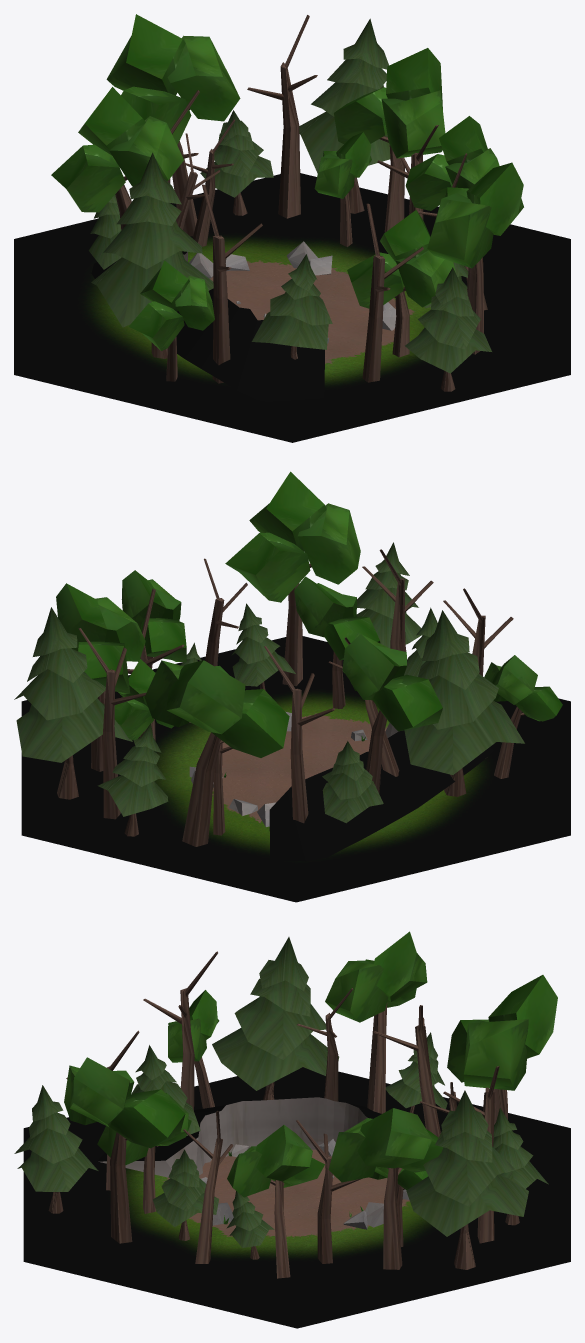
File: hubenviro.glb
The picture shows the model from 3 angles, top to bottom: view 1: azimuth 30°, elevation 25°; view 2: azimuth 150°, elevation 25°; view 3: azimuth 270°, elevation 25°; orthographic projection.
Parts seen in each view (by area): view 1: polySurface187 Ground_geo, Tree2_geo Tree2_geo1 Tree2_geo2 Tree2_geo3 Tree2_geo4 Tree2_ (×8), Tree3_geo Tree3_geo1 Tree3_geo2 Tree3_geo3 Tree3_geo4 Tree3_ (×6), Tree1_geo Tree1_geo1 Tree1_geo2 Tree1_geo3 Tree1_geo4 Tree1_ (×6), polySurface152 grass_geo scene; view 2: polySurface187 Ground_geo, Tree2_geo Tree2_geo1 Tree2_geo2 Tree2_geo3 Tree2_geo4 Tree2_ (×8), Tree3_geo Tree3_geo1 Tree3_geo2 Tree3_geo3 Tree3_geo4 Tree3_ (×7), Tree1_geo Tree1_geo1 Tree1_geo2 Tree1_geo3 Tree1_geo4 Tree1_ (×8), polySurface152 grass_geo scene; view 3: polySurface187 Ground_geo, Tree2_geo Tree2_geo1 Tree2_geo2 Tree2_geo3 Tree2_geo4 Tree2_ (×8), Tree3_geo Tree3_geo1 Tree3_geo2 Tree3_geo3 Tree3_geo4 Tree3_ (×8), Tree1_geo Tree1_geo1 Tree1_geo2 Tree1_geo3 Tree1_geo4 Tree1_ (×6), scene cliff_geo, polySurface152 grass_geo scene.
Part boxes in pixels (x1=…): polySurface187 Ground_geo: x1=14, y1=173, x2=570, y2=442; Tree2_geo Tree2_geo1 Tree2_geo2 Tree2_geo3 Tree2_geo4 Tree2_ (×8): x1=51, y1=14, x2=523, y2=381; Tree3_geo Tree3_geo1 Tree3_geo2 Tree3_geo3 Tree3_geo4 Tree3_ (×6): x1=88, y1=18, x2=491, y2=391; Tree1_geo Tree1_geo1 Tree1_geo2 Tree1_geo3 Tree1_geo4 Tree1_ (×6): x1=176, y1=15, x2=438, y2=383; polySurface152 grass_geo scene: x1=91, y1=251, x2=324, y2=402; polySurface187 Ground_geo: x1=21, y1=636, x2=570, y2=902; Tree2_geo Tree2_geo1 Tree2_geo2 Tree2_geo3 Tree2_geo4 Tree2_ (×8): x1=56, y1=471, x2=562, y2=846; Tree3_geo Tree3_geo1 Tree3_geo2 Tree3_geo3 Tree3_geo4 Tree3_ (×7): x1=14, y1=542, x2=524, y2=836; Tree1_geo Tree1_geo1 Tree1_geo2 Tree1_geo3 Tree1_geo4 Tree1_ (×8): x1=78, y1=549, x2=513, y2=835; polySurface152 grass_geo scene: x1=269, y1=730, x2=501, y2=861; polySurface187 Ground_geo: x1=23, y1=1067, x2=570, y2=1328; Tree2_geo Tree2_geo1 Tree2_geo2 Tree2_geo3 Tree2_geo4 Tree2_ (×8): x1=64, y1=931, x2=557, y2=1278; Tree3_geo Tree3_geo1 Tree3_geo2 Tree3_geo3 Tree3_geo4 Tree3_ (×8): x1=14, y1=937, x2=548, y2=1269; Tree1_geo Tree1_geo1 Tree1_geo2 Tree1_geo3 Tree1_geo4 Tree1_ (×6): x1=143, y1=951, x2=499, y2=1263; scene cliff_geo: x1=98, y1=1097, x2=367, y2=1177; polySurface152 grass_geo scene: x1=97, y1=1103, x2=441, y2=1161.
Bounding box in the file's own units: 33.19 × 14.66 × 29.25.
Materials: 6 (6 with a texture image).
